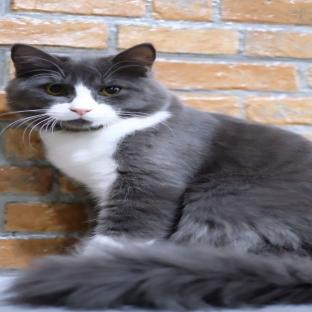Animal: (6, 43, 312, 311)
